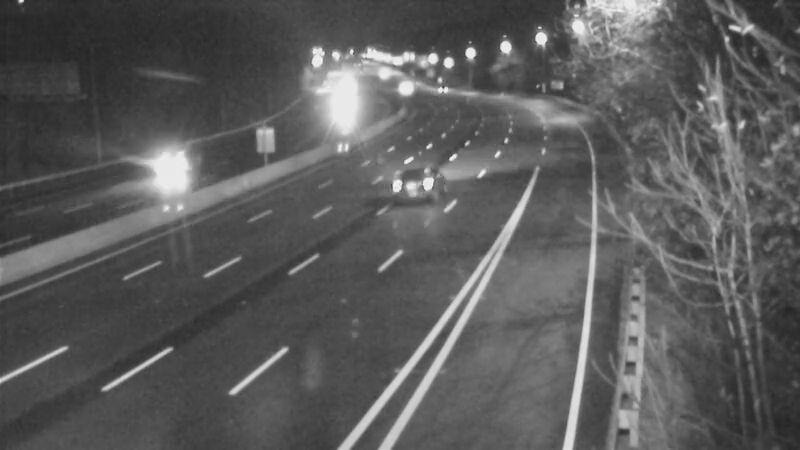vehicle: (383, 142, 463, 222), (130, 127, 210, 207), (418, 66, 468, 116), (373, 63, 423, 113), (316, 78, 366, 128)
